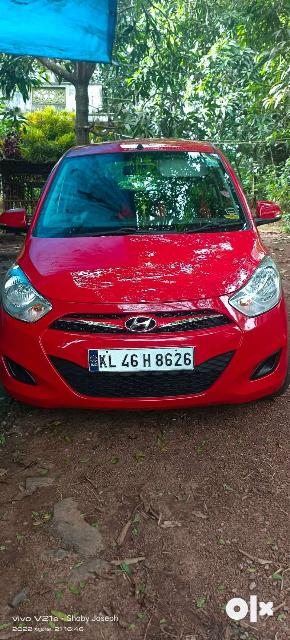Indian_Number_Plate: (90, 346, 196, 372)
